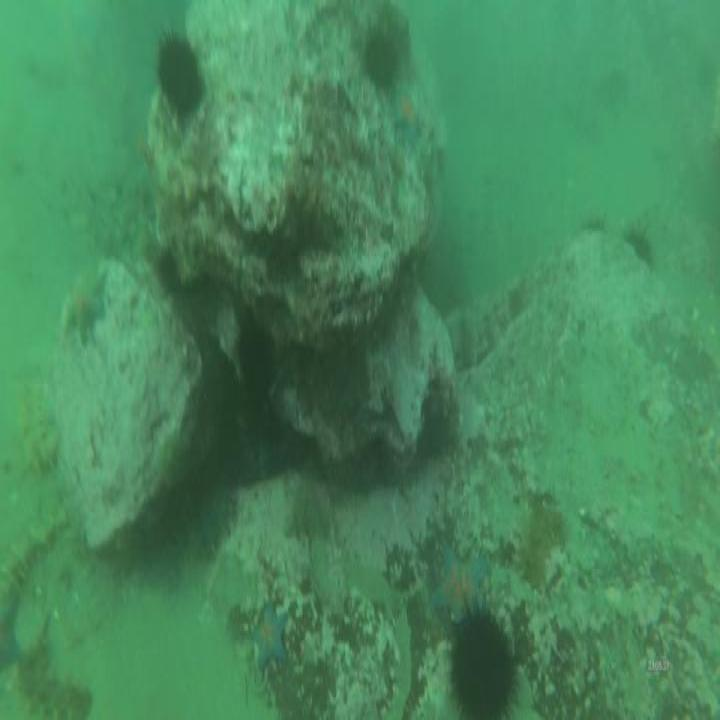echinus: (450, 595, 518, 720), (150, 23, 207, 121), (363, 20, 401, 94)
holothurian: (515, 492, 563, 594), (0, 525, 59, 599), (18, 381, 58, 471)
starfish: (429, 544, 488, 629), (62, 263, 109, 345), (385, 78, 433, 148), (254, 599, 289, 672), (0, 602, 24, 674)
